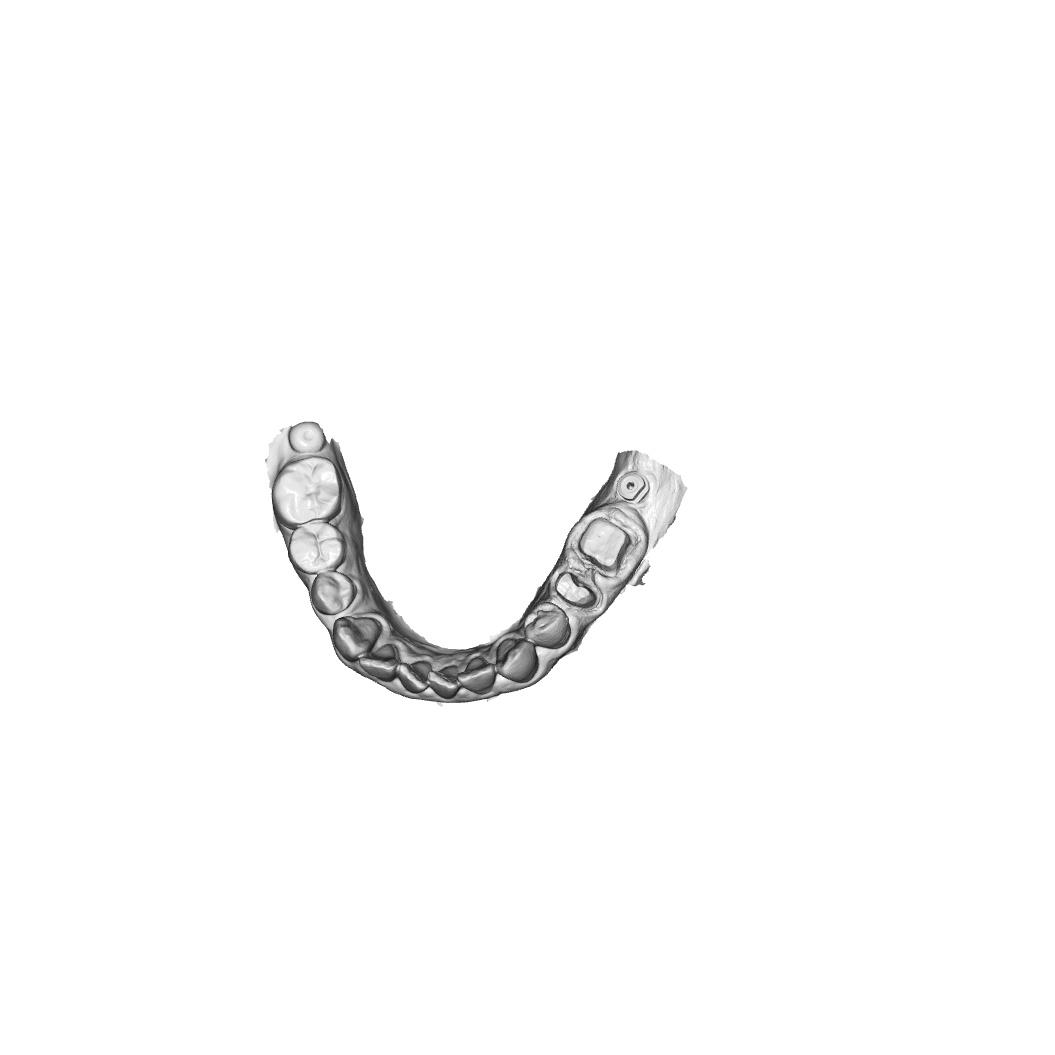canine: (331, 615, 382, 664), (495, 638, 539, 685)
crown: (575, 514, 637, 576), (552, 570, 602, 611)
implant: (288, 420, 327, 456), (615, 469, 650, 505)
incisor: (358, 643, 399, 683), (456, 655, 497, 695), (395, 659, 433, 697), (426, 664, 462, 700)
molar: (271, 456, 343, 531), (288, 522, 347, 575)
premolar: (523, 601, 572, 650), (308, 570, 357, 618)
